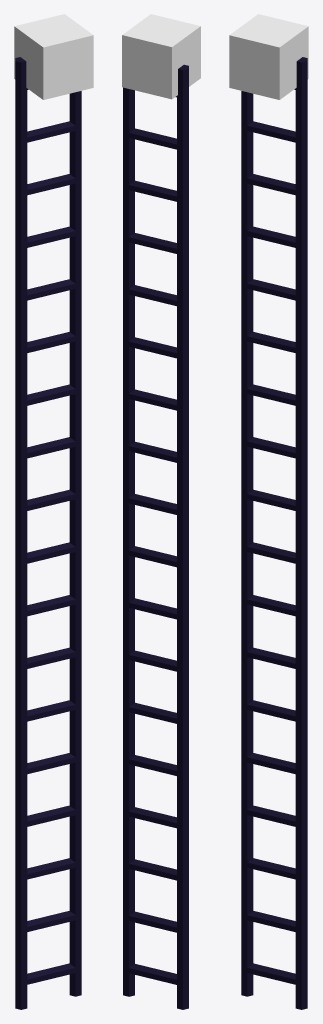
Rendered from Ladder.fbx.
The picture shows the model from 3 angles, left to right: view 1: azimuth 30°, elevation 25°; view 2: azimuth 150°, elevation 25°; view 3: azimuth 330°, elevation 25°; orthographic projection.
Parts seen in each view (by area): view 1: ladder_piece(Clone) (×18), LadderTop; view 2: ladder_piece(Clone) (×18), LadderTop; view 3: ladder_piece(Clone) (×18), LadderTop.
Boxes of the visible parts, x1=… form: ladder_piece(Clone) (×18): x1=15, y1=57, x2=81, y2=1009; LadderTop: x1=14, y1=14, x2=93, y2=99; ladder_piece(Clone) (×18): x1=123, y1=64, x2=188, y2=1009; LadderTop: x1=122, y1=14, x2=200, y2=99; ladder_piece(Clone) (×18): x1=241, y1=57, x2=307, y2=1009; LadderTop: x1=229, y1=14, x2=308, y2=99.
Bounding box in the file's own units: 1.32 × 18.5 × 1.
